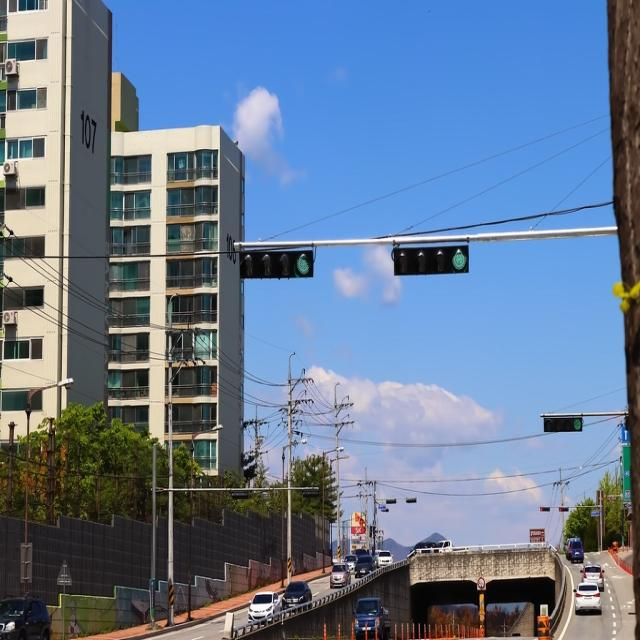green light: (240, 246, 314, 278), (394, 247, 468, 274)
